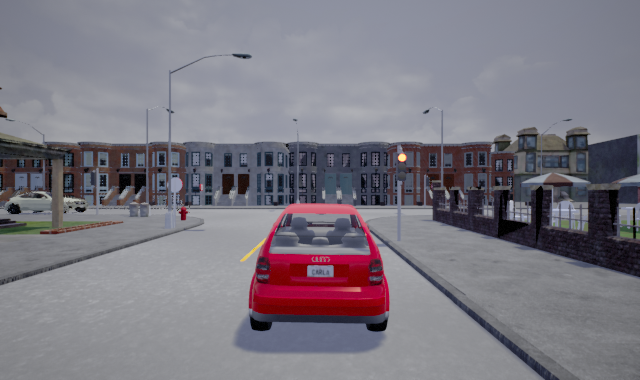vehicle: (248, 203, 391, 331), (4, 190, 87, 215)
